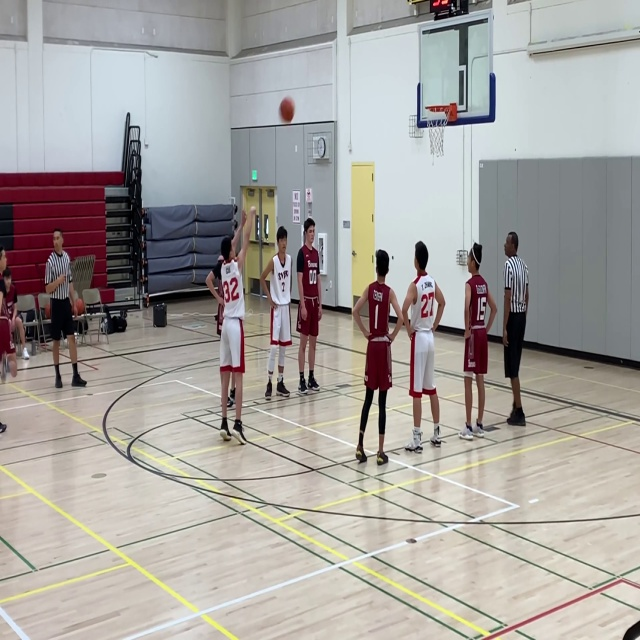Basketball: (279, 96, 295, 122), (72, 298, 85, 316)
